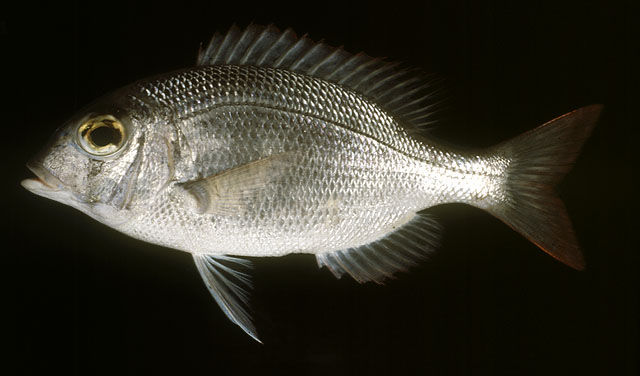fish: (20, 25, 604, 345)
